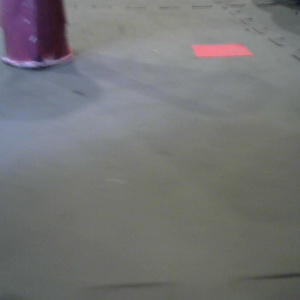middle: (1, 1, 74, 68)
